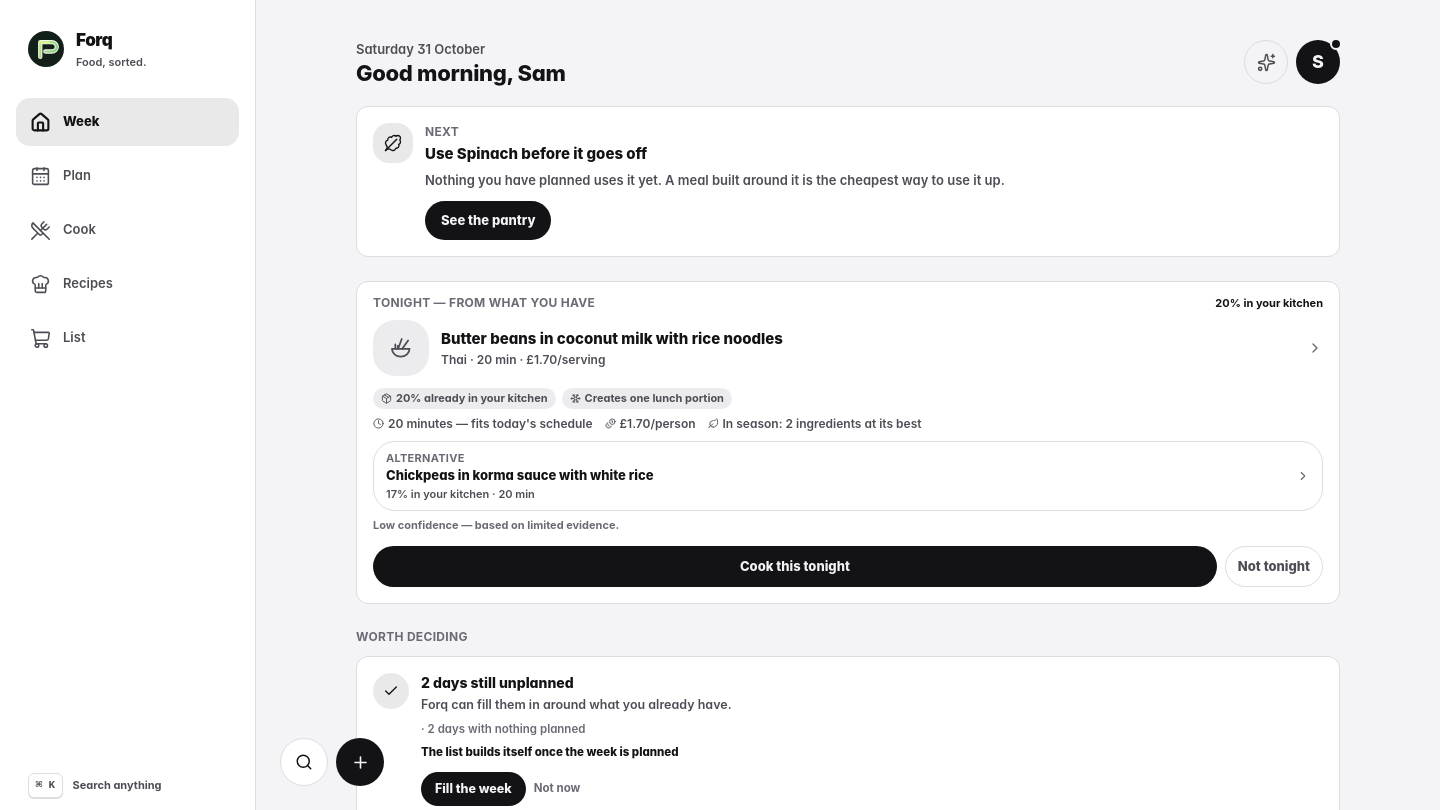
Test: the prediction block in the app shell › opens the Smart pantry sheet from the Shop tab and shows the block
The width and height of the screenshot is (1440, 810).
Click the button "List": (128, 338) [16,314,239,362]
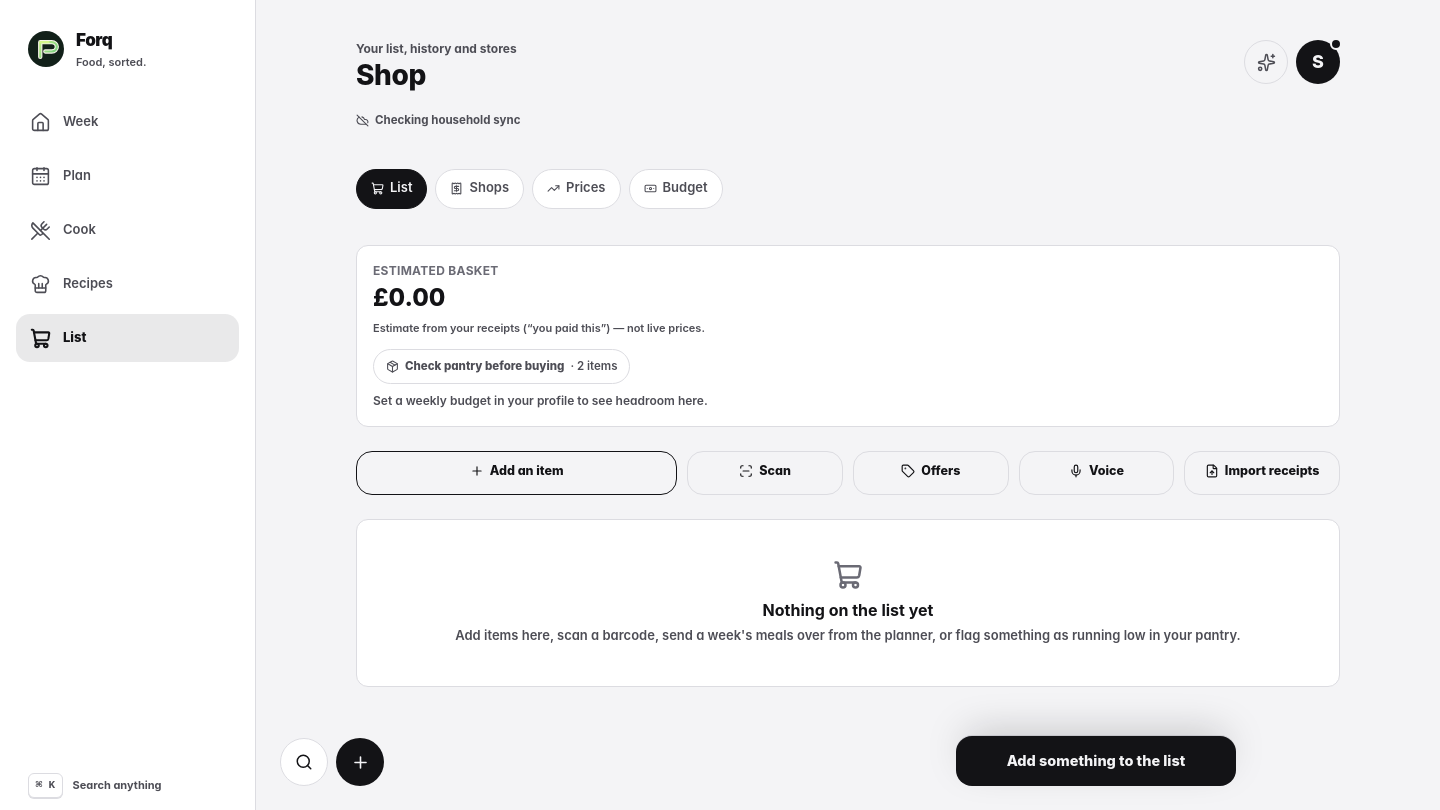
Now the button "List" below "Food, sorted." is marked as current, box [16,314,239,362]
Click the button "Check pantry before buying · 2 items": (502, 366) [373,349,630,384]
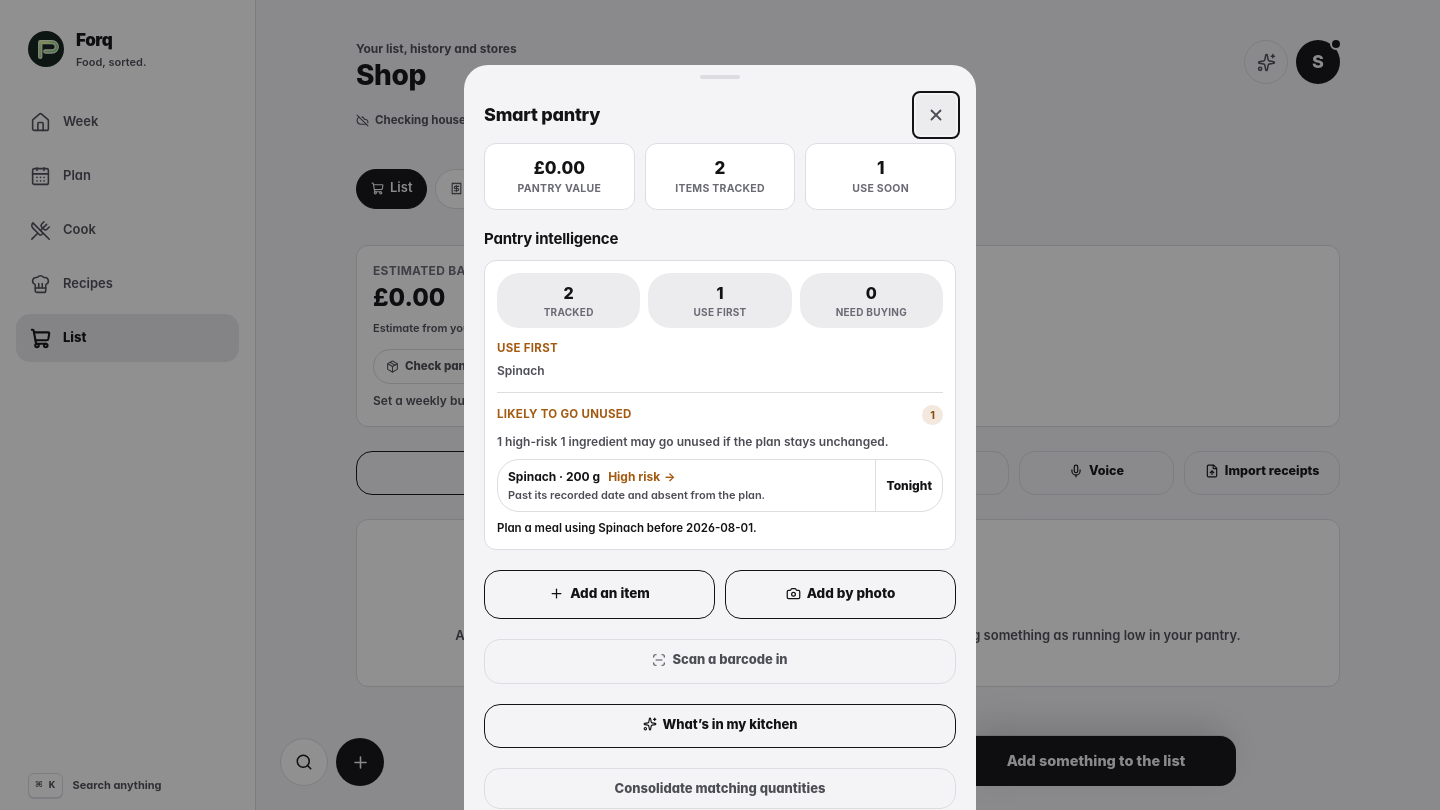
Now the dialog is shown, box [464,65,976,809]
Now the text "Likely to go unused" is shown, box [497,406,632,424]
Now the text "High risk" is shown, box [608,469,660,484]
